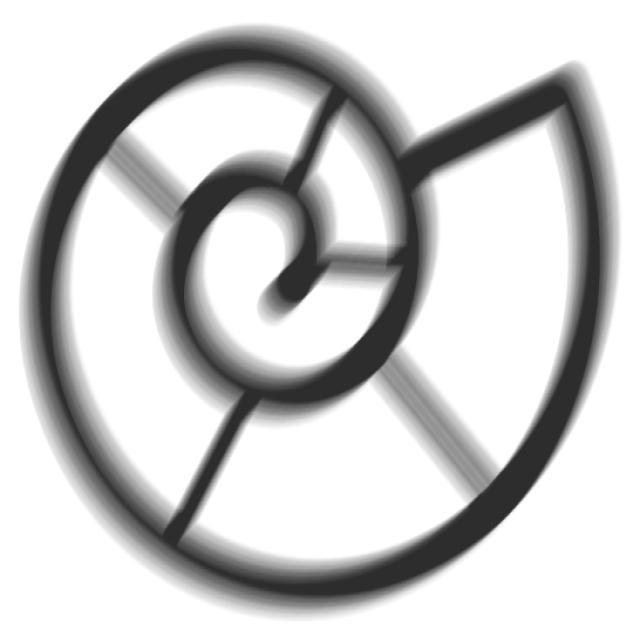fossil: (11, 12, 631, 630)
